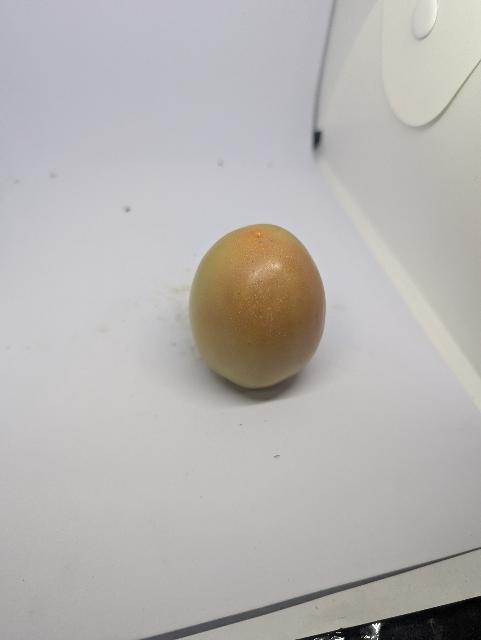turning: (190, 224, 326, 389)
